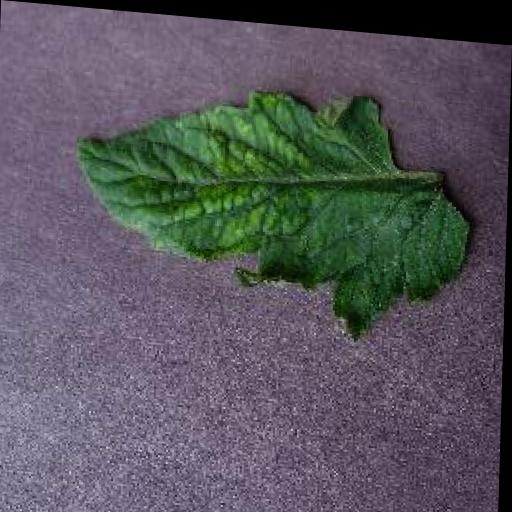Mosaic Virus: (66, 68, 468, 337)
